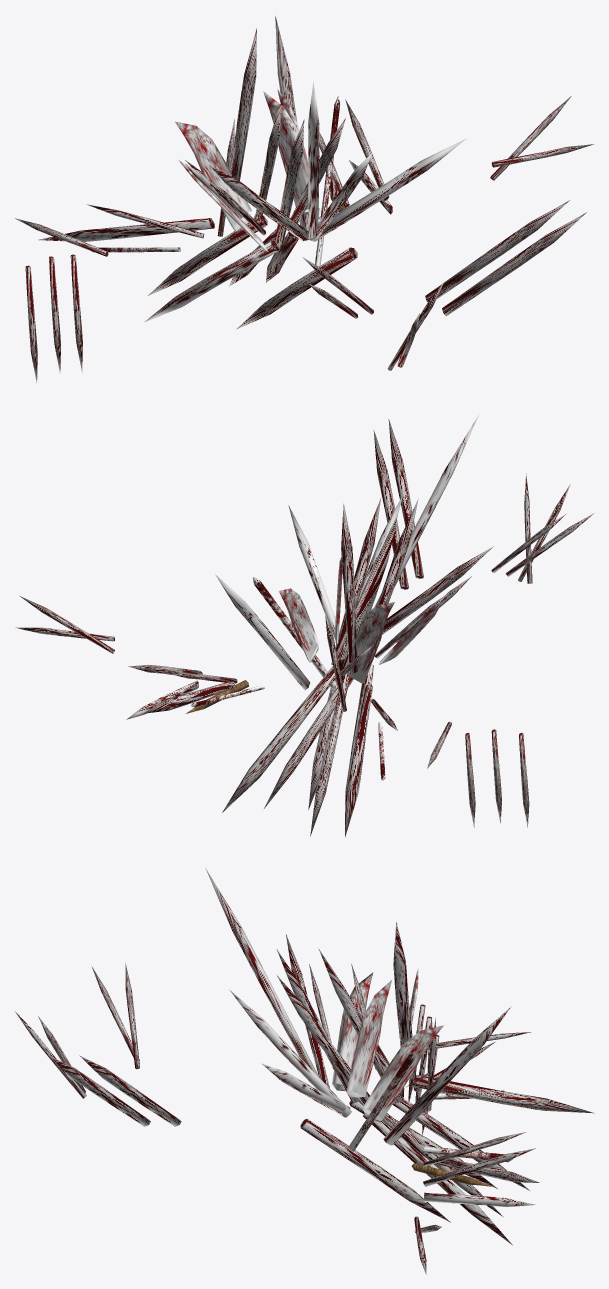
File: WorldItem_ImpaledSpikes.fbx
The picture shows the model from 3 angles, top to bottom: view 1: azimuth 30°, elevation 25°; view 2: azimuth 150°, elevation 25°; view 3: azimuth 270°, elevation 25°; orthographic projection. The views are drawn at different scales.
Parts seen in each view (by area): view 1: ImpaledSpikes; view 2: ImpaledSpikes; view 3: ImpaledSpikes.
Part boxes in pixels (x1,y1,x2,y2): ImpaledSpikes: [15, 16, 594, 382]; ImpaledSpikes: [15, 415, 594, 837]; ImpaledSpikes: [15, 868, 594, 1274].
Size of the model in its own units: 0.8559 by 0.5183 by 0.8255.
